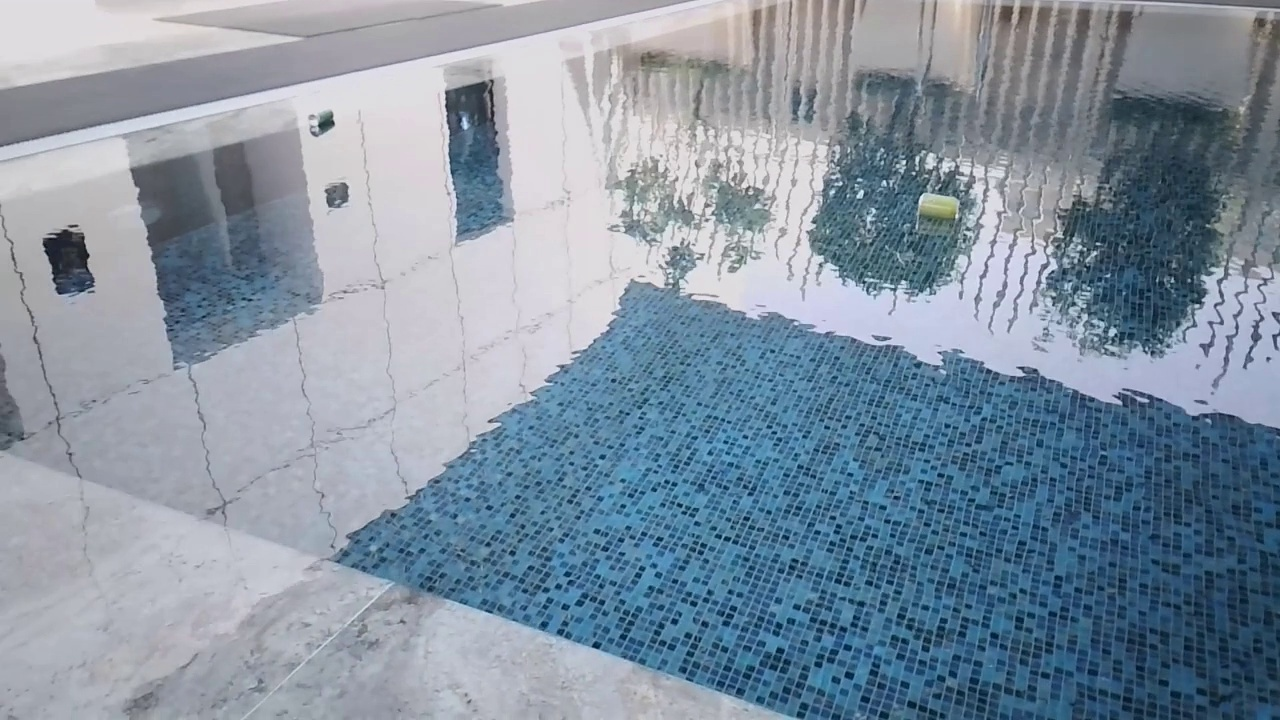debris: (914, 187, 965, 231)
